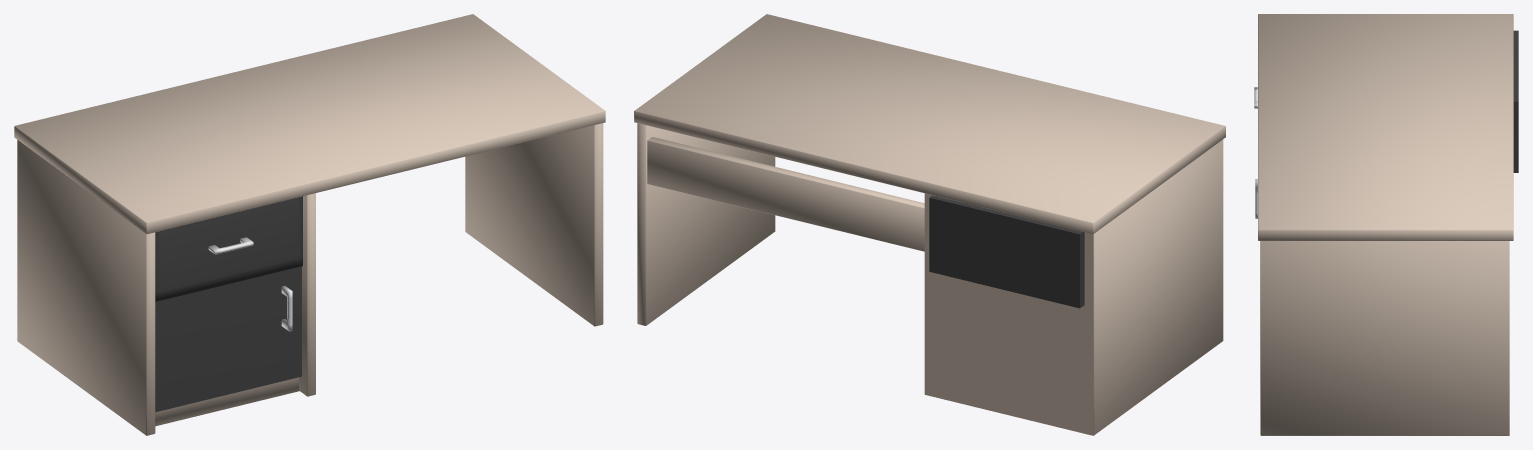
Rendered from desk.glb.
3 renders of one model, left to right at view 1: azimuth 30°, elevation 25°; view 2: azimuth 150°, elevation 25°; view 3: azimuth 270°, elevation 25°, orthographic. The views are drawn at different scales.
Parts seen in each view (by area): view 1: Desk, Handle4, Handle3; view 2: Desk, Handle3; view 3: Desk, Handle3.
Boxes of the visible parts, bbox=[...] form: Desk: bbox=[14, 14, 605, 435]; Handle4: bbox=[155, 266, 301, 412]; Handle3: bbox=[155, 196, 302, 301]; Desk: bbox=[634, 14, 1225, 435]; Handle3: bbox=[929, 195, 1084, 308]; Desk: bbox=[1258, 14, 1513, 435]; Handle3: bbox=[1254, 30, 1518, 172].
Bounding box in the file's own units: 400 × 179 × 207.
